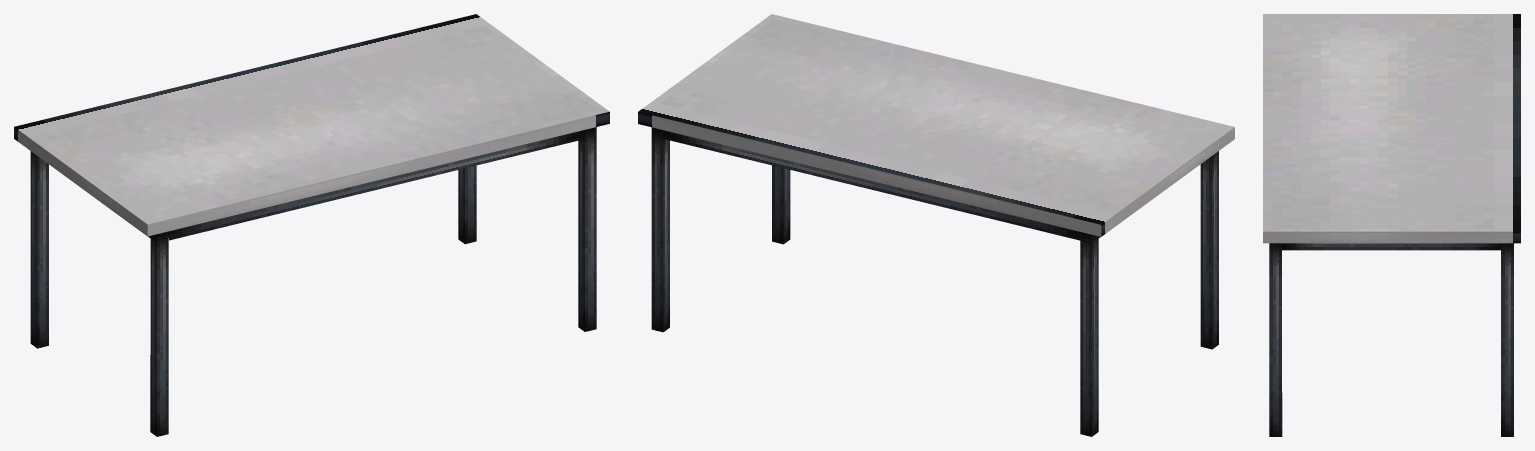
The model's file is Table_Formica.glb.
3 views of the same model, side by side, from view 1: azimuth 30°, elevation 25°; view 2: azimuth 150°, elevation 25°; view 3: azimuth 270°, elevation 25° (orthographic). The views are drawn at different scales.
Parts seen in each view (by area): view 1: TABLE_FORMICA; view 2: TABLE_FORMICA; view 3: TABLE_FORMICA.
Part boxes in pixels (left/top/right/bottom): TABLE_FORMICA: left=14, top=14, right=609, bottom=436; TABLE_FORMICA: left=638, top=14, right=1234, bottom=436; TABLE_FORMICA: left=1263, top=14, right=1520, bottom=436.
Size of the model in its own units: 2 by 0.901 by 1.
1 material, 1 textured.
